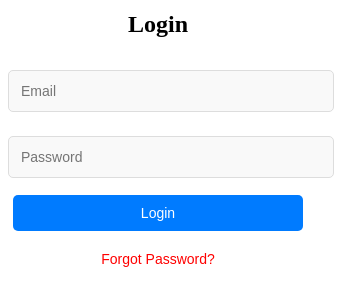
Login Component › displays error for incorrect login
Note: Simulate user input
In the field with placeholder "Email": (171, 91) x1=8 y1=70 x2=334 y2=112, type "wrong@test.com"
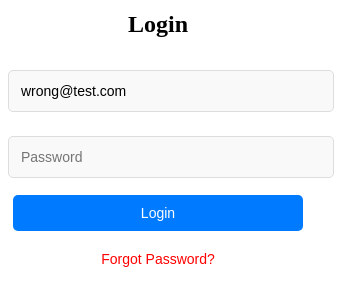
In the password field with placeholder "Password": (171, 157) x1=8 y1=136 x2=334 y2=178, type "wrongpassword"
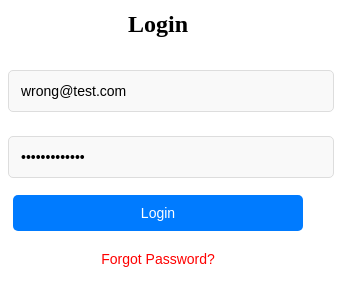
Note: Submit the form
Click the button "Login": (158, 213) x1=13 y1=195 x2=303 y2=231
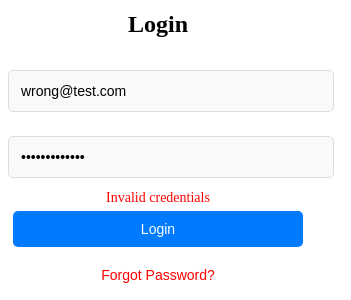
Check: the text "Invalid credentials" is shown, box x1=106 y1=190 x2=210 y2=205
